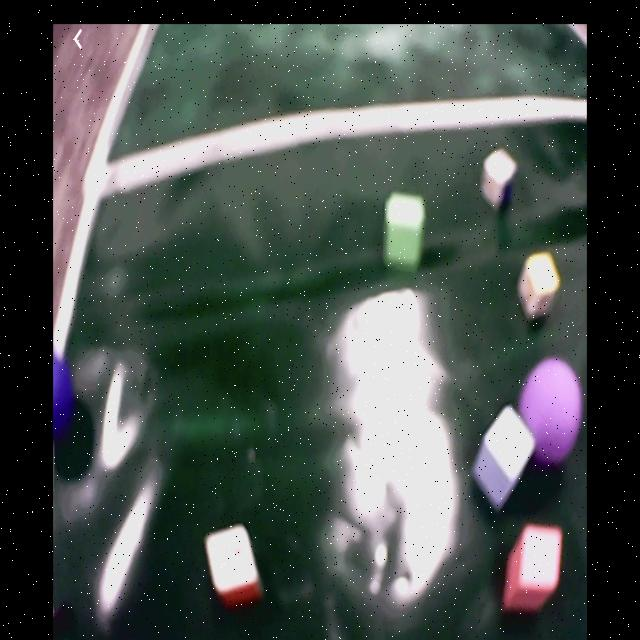ball: (522, 361, 582, 463), (55, 356, 76, 436)
